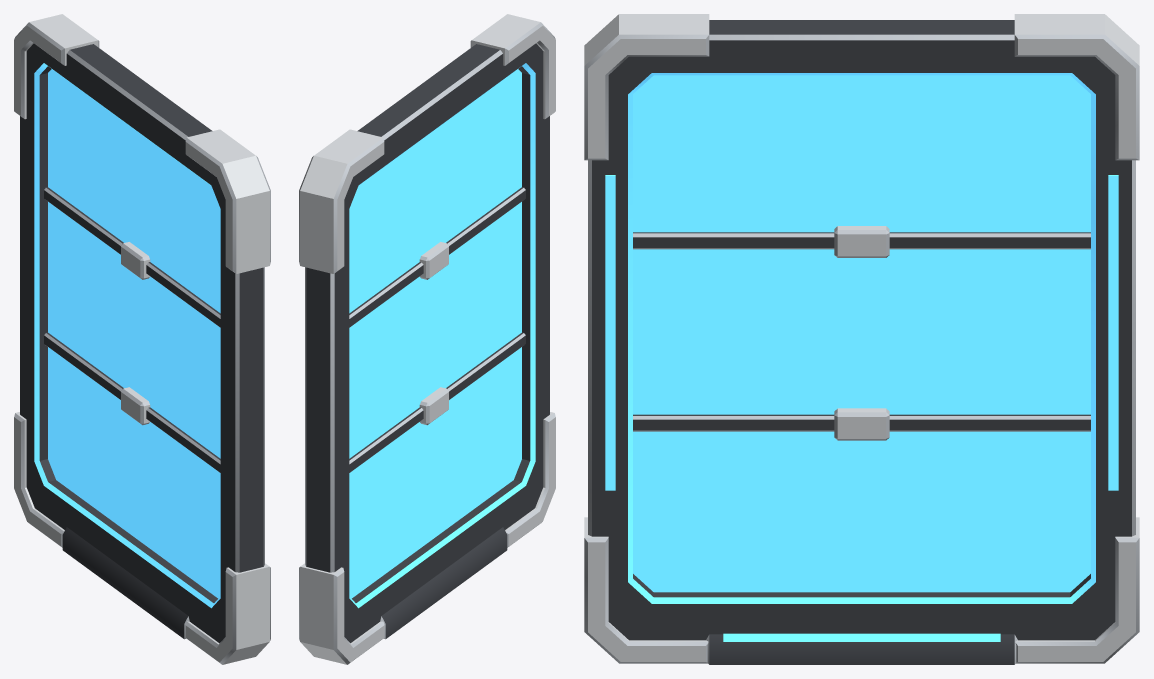
File: SM_MRWall.glb
3 views of the same model, side by side, from view 1: azimuth 30°, elevation 25°; view 2: azimuth 150°, elevation 25°; view 3: azimuth 270°, elevation 25° (orthographic). The views are drawn at different scales.
Parts seen in each view (by area): view 1: SM_MRWall; view 2: SM_MRWall; view 3: SM_MRWall.
Part boxes in pixels (bbox=[...]): SM_MRWall: bbox=[14, 14, 270, 664]; SM_MRWall: bbox=[299, 14, 555, 664]; SM_MRWall: bbox=[584, 14, 1139, 664].
Size of the model in its own units: 0.16 by 2 by 1.6.
